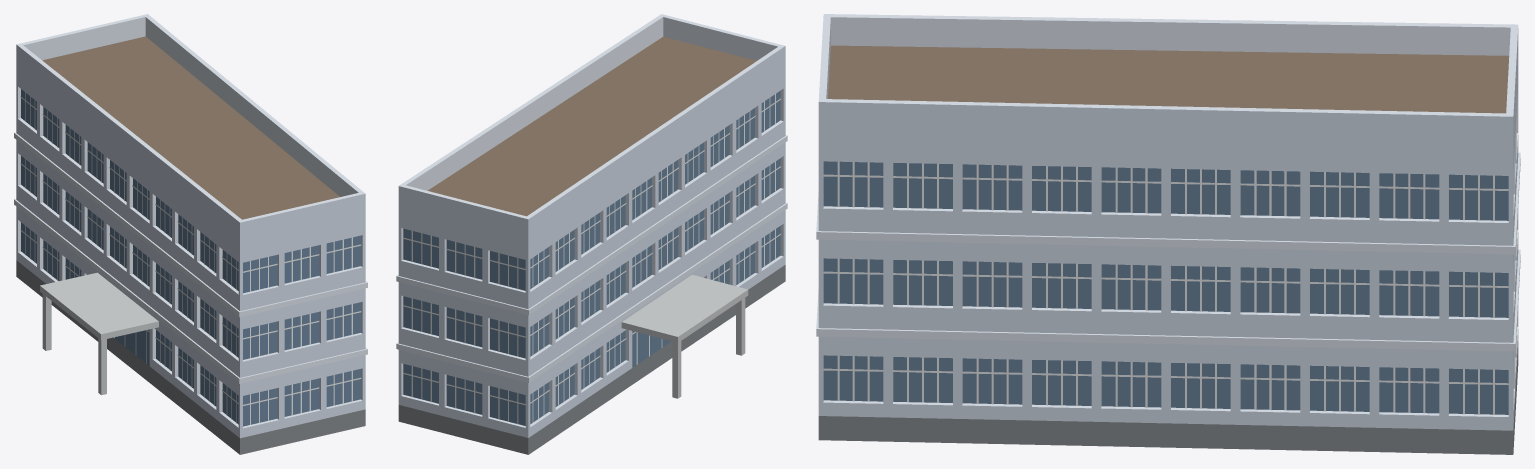
The picture shows the model from 3 angles, left to right: view 1: azimuth 30°, elevation 25°; view 2: azimuth 150°, elevation 25°; view 3: azimuth 270°, elevation 25°; orthographic projection. The views are drawn at different scales.
Parts seen in each view (by area): view 1: wing6__wall-plaster, wing6__glass, wing6__roof, wing6__trim-concrete, wing6__frame, wing6__canopy-concrete, wing6__base-stone; view 2: wing6__wall-plaster, wing6__glass, wing6__trim-concrete, wing6__roof, wing6__frame, wing6__base-stone, wing6__canopy-concrete; view 3: wing6__wall-plaster, wing6__glass, wing6__trim-concrete, wing6__roof, wing6__base-stone, wing6__frame.
Boxes of the visible parts, x1,y1,x2,y2 form: wing6__wall-plaster: (16,44,365,438); wing6__glass: (21,89,360,426); wing6__roof: (42,36,339,219); wing6__trim-concrete: (14,14,367,428); wing6__frame: (20,92,361,424); wing6__canopy-concrete: (40,272,158,395); wing6__base-stone: (16,260,365,454); wing6__wall-plaster: (398,46,785,437); wing6__glass: (403,90,780,425); wing6__trim-concrete: (396,14,787,427); wing6__roof: (427,36,756,216); wing6__frame: (403,94,780,424); wing6__base-stone: (398,265,785,454); wing6__canopy-concrete: (621,274,748,398); wing6__wall-plaster: (818,28,1518,430); wing6__glass: (823,161,1508,414); wing6__trim-concrete: (816,14,1520,416); wing6__roof: (828,45,1509,113); wing6__base-stone: (818,342,1518,454); wing6__frame: (823,161,1508,414).
Size of the model in its own units: 11.16 by 12.55 by 23.7.
